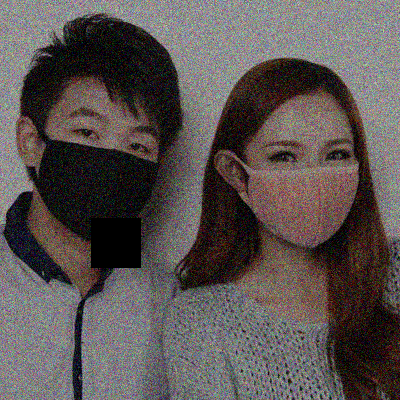with_mask: (35, 106, 162, 245), (248, 135, 361, 254)
